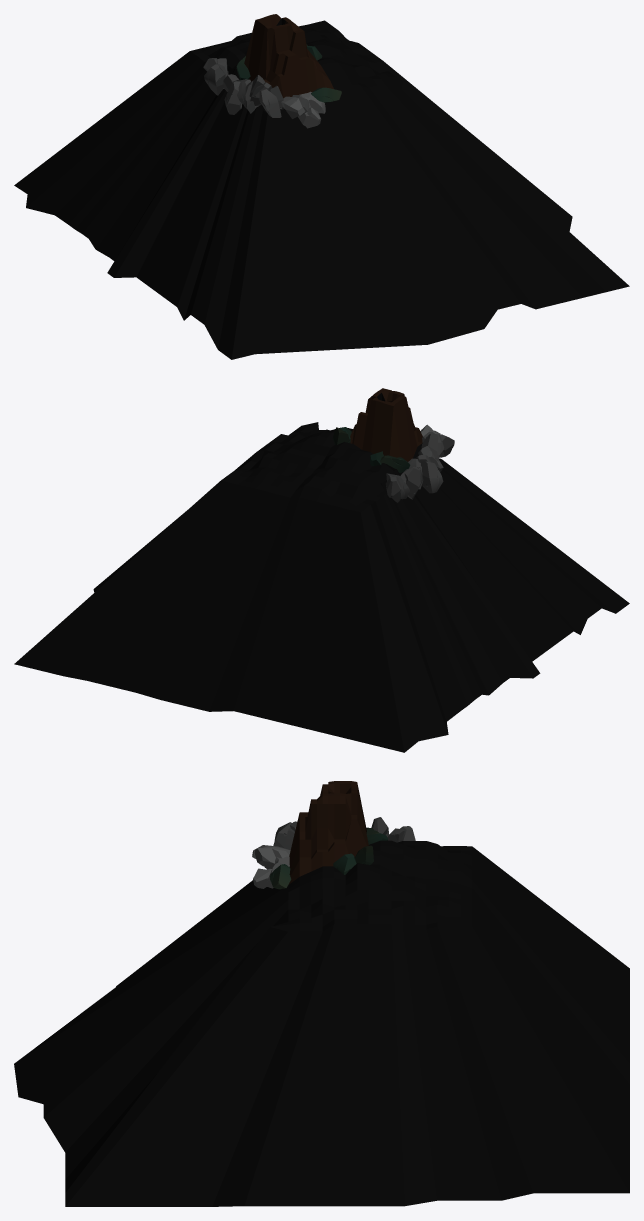
The model's file is Island_middle_volcano_0.glb.
3 views of the same model, one above another, from view 1: azimuth 30°, elevation 25°; view 2: azimuth 150°, elevation 25°; view 3: azimuth 270°, elevation 25° (orthographic). The views are drawn at different scales.
Visible parts, largest first — view 1: 平面.003, 平面.004, RB1_RB1_Cube.013, RB1_RB1_Cube.012, RB1_RB1_Cube.015, RB1_RB1_Cube.016; view 2: 平面.003, 平面.004, RB1_RB1_Cube.015, RB1_RB1_Cube.016, RB1_RB1_Cube.012; view 3: 平面.003, 平面.004, RB1_RB1_Cube.013.
Boxes of the visible parts, box(x1,y1,x2,y2) form: 平面.003: box(14, 18, 629, 359); 平面.004: box(244, 14, 333, 98); RB1_RB1_Cube.013: box(281, 91, 325, 128); RB1_RB1_Cube.012: box(249, 75, 284, 117); RB1_RB1_Cube.015: box(203, 58, 239, 95); RB1_RB1_Cube.016: box(224, 79, 258, 114); 平面.003: box(14, 393, 629, 752); 平面.004: box(350, 388, 422, 461); RB1_RB1_Cube.015: box(385, 466, 423, 502); RB1_RB1_Cube.016: box(408, 446, 443, 493); RB1_RB1_Cube.012: box(418, 431, 454, 461); 平面.003: box(14, 840, 629, 1206); 平面.004: box(288, 781, 368, 884); RB1_RB1_Cube.013: box(252, 845, 290, 888).
Bounding box in the file's own units: 60.87 × 33.75 × 66.89.
7 materials, 3 textured.
